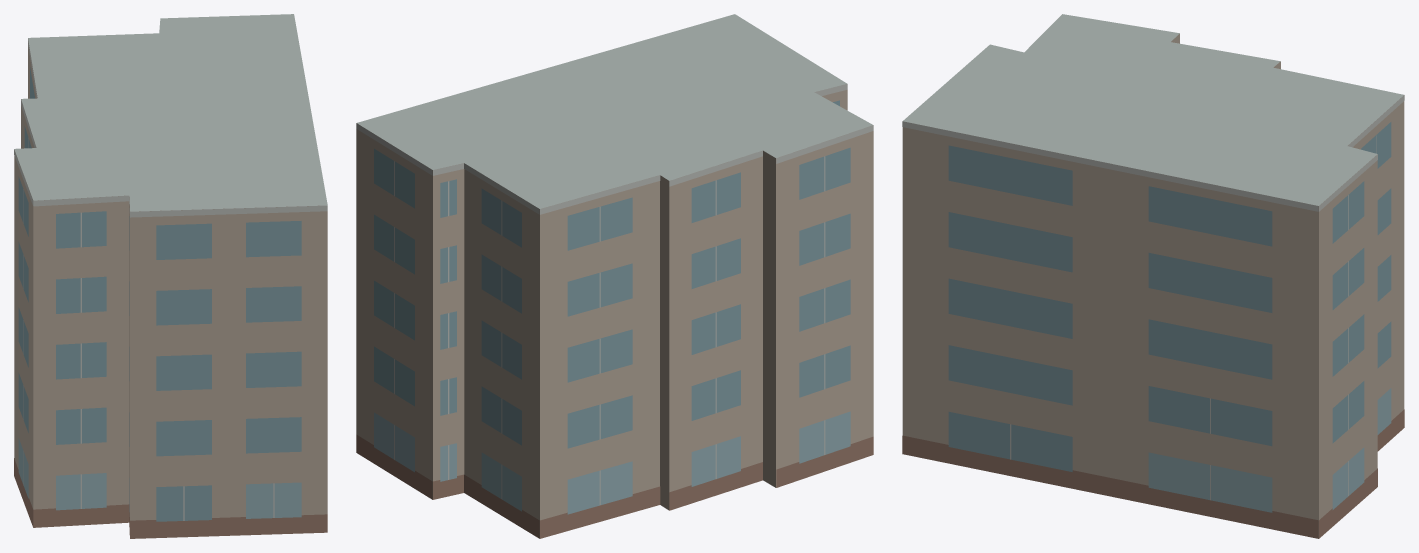
File: survey-upis-33004311.glb
The picture shows the model from 3 angles, left to right: view 1: azimuth 30°, elevation 25°; view 2: azimuth 150°, elevation 25°; view 3: azimuth 270°, elevation 25°; orthographic projection.
Parts seen in each view (by area): view 1: survey-upis-33004311.tmp; view 2: survey-upis-33004311.tmp; view 3: survey-upis-33004311.tmp.
Boxes of the visible parts, bbox=[...] form: survey-upis-33004311.tmp: bbox=[14, 14, 327, 538]; survey-upis-33004311.tmp: bbox=[356, 14, 873, 538]; survey-upis-33004311.tmp: bbox=[902, 14, 1404, 538].
Bounding box in the file's own units: 17.08 × 13.8 × 18.87.
